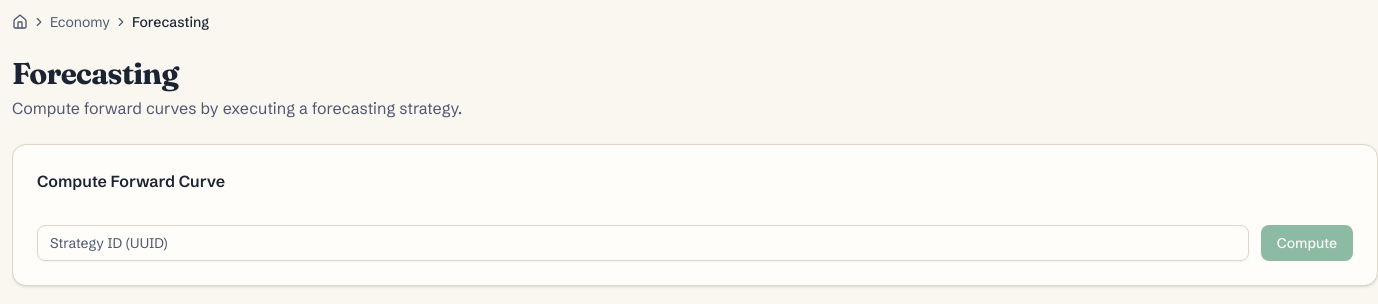
Test: ForecastingPage › compute button is enabled after entering strategy ID
Step 1. Type "550e8400-e29b-41d4-a716-446655440000" into the field labelled "Strategy ID (UUID)" → [643, 243], box [37,225,1249,261]
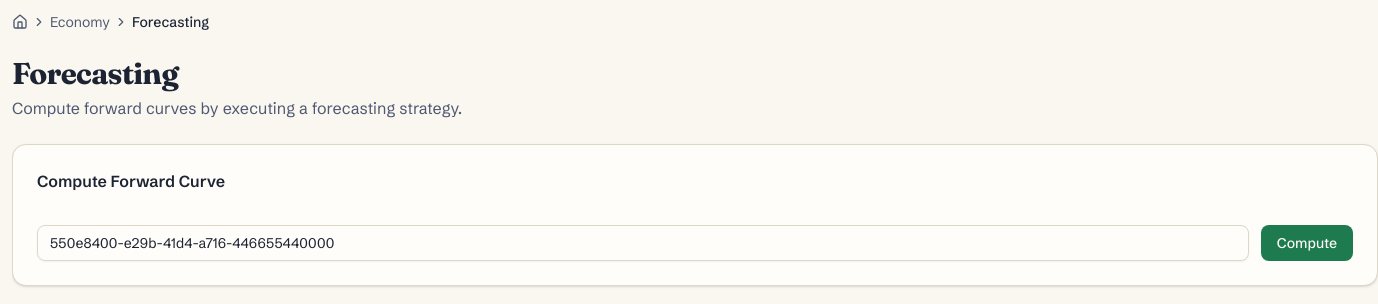
Expected: the button "Compute" is enabled, [1261,225,1353,261]
